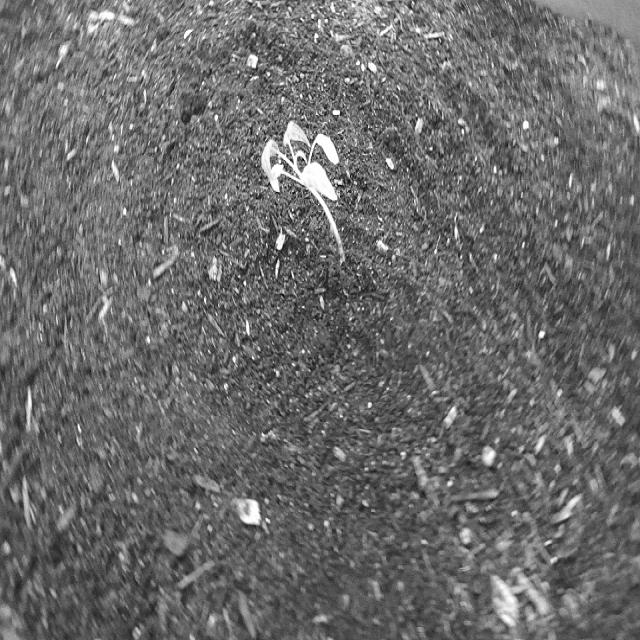Unhealthy: (256, 115, 353, 271)
